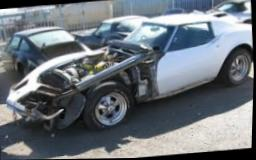Bonnet: (27, 43, 156, 91)
Bumper: (7, 76, 86, 130)
Fender: (86, 53, 161, 102)
